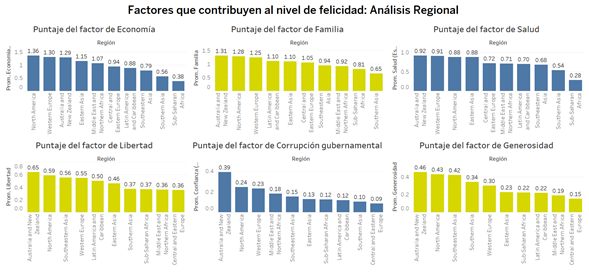

The page's visual inventory and layout, read from the dashboard file:
{"tool":"tableau","page":{"name":"Dashboard 2","canvas":[1620,760],"ordinal":1},"visuals":[{"type":"text","box":[8,8,1604,54]},{"type":"worksheet","title":"Economía","mark":"Automatic","rows":["Economy (GDP per Capita)"],"cols":["Region"],"box":[8,62,514,318]},{"type":"worksheet","title":"Familia","mark":"Automatic","rows":["Family"],"cols":["Region"],"box":[522,62,544,318]},{"type":"worksheet","title":"Salud","mark":"Automatic","rows":["Health (Life Expectancy)"],"cols":["Region"],"box":[1066,62,546,318]},{"type":"worksheet","title":"Libertad","mark":"Automatic","rows":["Freedom"],"cols":["Region"],"box":[8,380,514,372]},{"type":"worksheet","title":"Corrupción","mark":"Automatic","rows":["Trust (Government Corruption)"],"cols":["Region"],"box":[522,380,544,372]},{"type":"worksheet","title":"Generosidad","mark":"Automatic","rows":["Generosity"],"cols":["Region"],"box":[1066,380,546,372]}]}

Visuals, with their boxes in screenshot pixels (x1, y1, x2, y2), scaled from the page's 1620x760 canvas onto the 589x275 screenshot:
text: 3:3:586:22
"Economía" worksheet: 3:22:190:138
"Familia" worksheet: 190:22:388:138
"Salud" worksheet: 388:22:586:138
"Libertad" worksheet: 3:138:190:272
"Corrupción" worksheet: 190:138:388:272
"Generosidad" worksheet: 388:138:586:272
